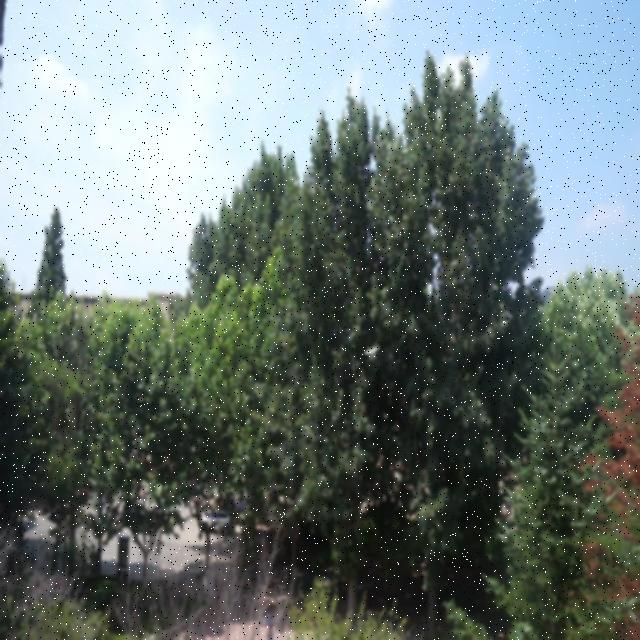UAV: (364, 347, 380, 360)
